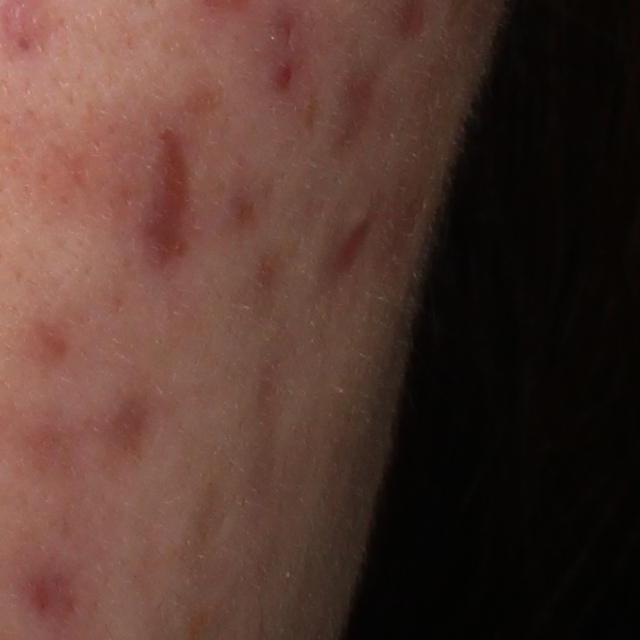atrophic_scar: (152, 138, 191, 271), (253, 339, 286, 477), (334, 198, 383, 285), (341, 75, 377, 156), (190, 491, 228, 554)
papule: (265, 56, 300, 93)
